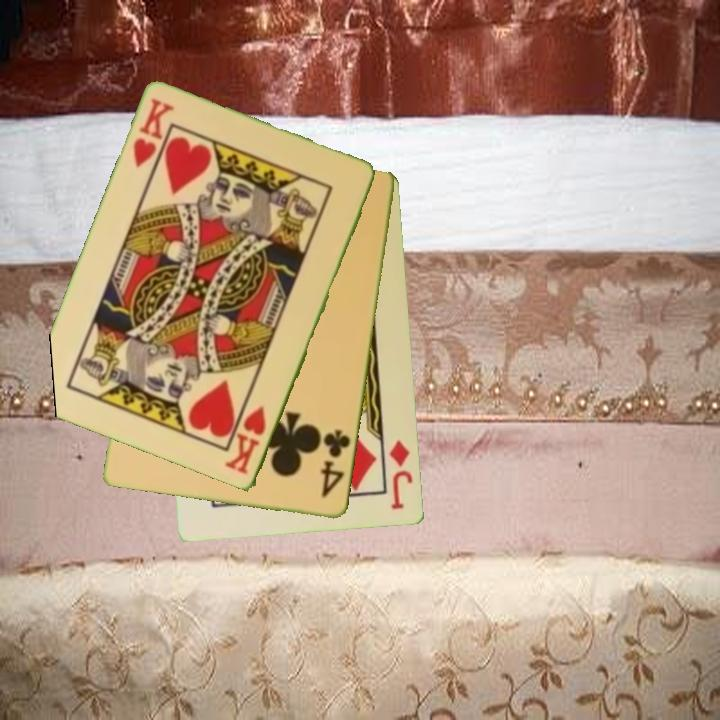4c: (318, 426, 353, 501)
Jd: (386, 438, 416, 513)
Kh: (222, 402, 270, 478), (129, 95, 177, 171)
